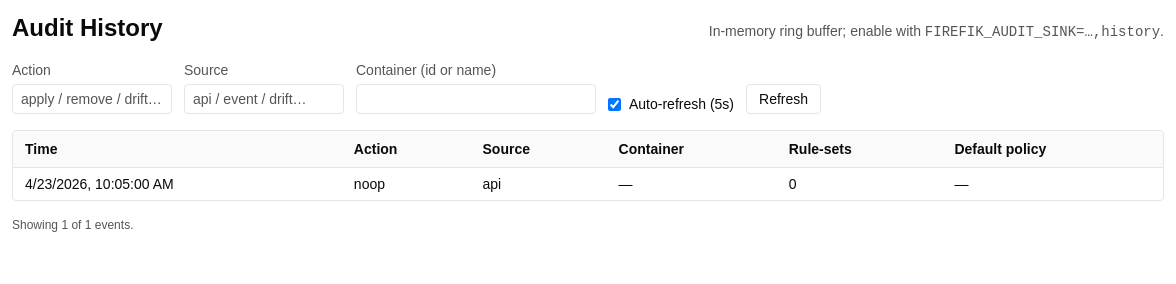
HistoryPage › matches the empty container filter against rows with no container_id/name
This screenshot has width=1176, height=284.
Expected: the text "Showing 1 of 1 events." is shown, [12,218,134,232]
In the field labelled "Container (id or name)": (476, 99) [356,84,596,114], type "anything"
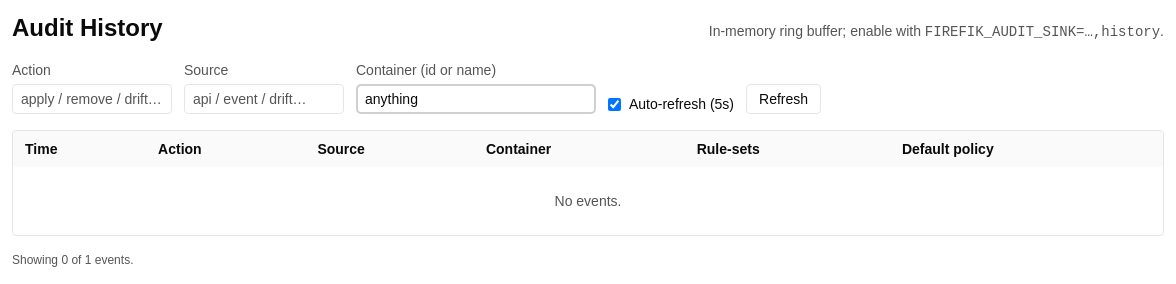
Now the text "Showing 0 of 1 events." is shown, box [12,253,134,267]
